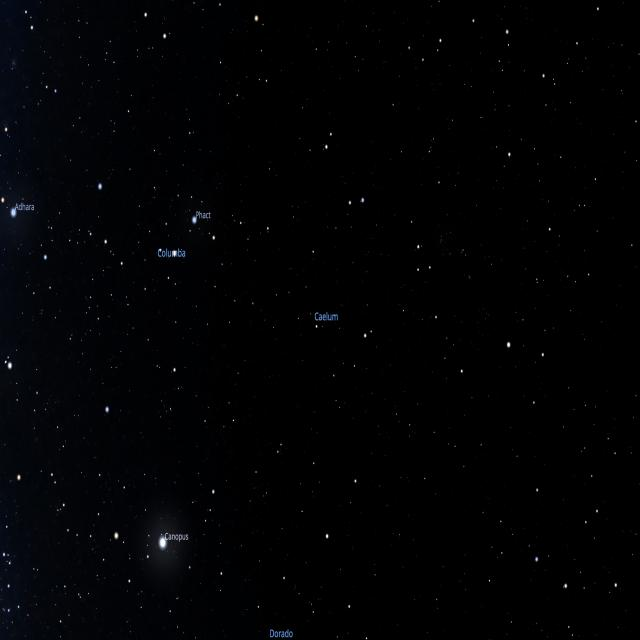Caelum: (310, 246, 339, 381)
